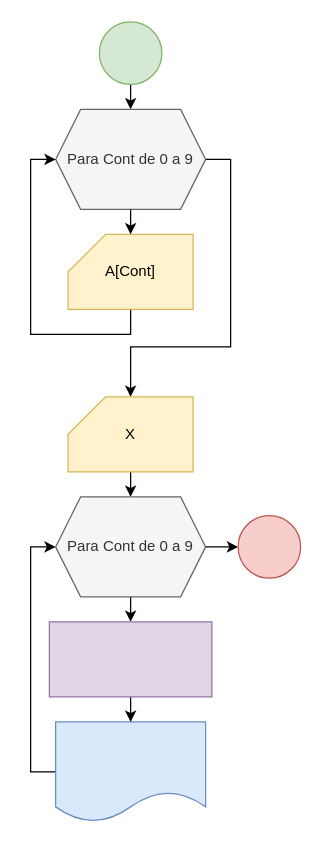
Image size: 323x844. Some labels were removed from this diagram. Here are the shapes that lost their labels. From the top down, the centre of each, then its label:
(x=130, y=659): M[Cont] = A[Cont] * X
(x=130, y=771): A[Cont] << " x " << X << " = " << M[Cont]
